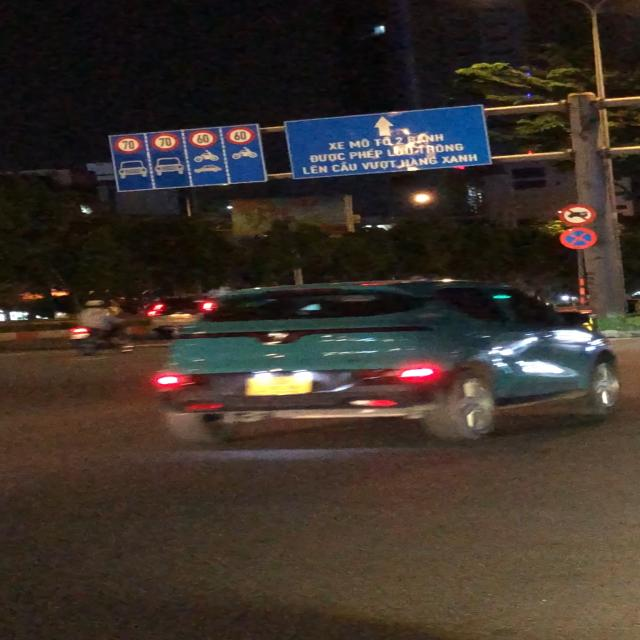Bien bao cam dung xe va do xe: (561, 227, 598, 250)
Bien bao cam xe oto tai: (558, 203, 595, 226)
Bien bao toc do toi da cho phep: (149, 131, 183, 153), (223, 126, 259, 146), (185, 129, 219, 149), (115, 136, 147, 154)
